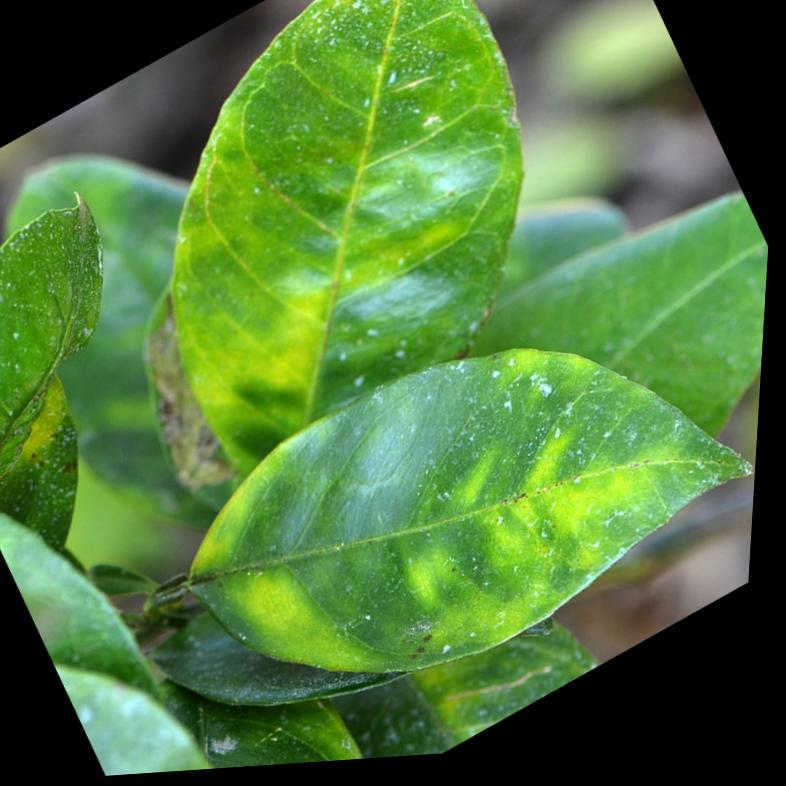Citrus Greening: (139, 236, 773, 777), (38, 0, 631, 502)
